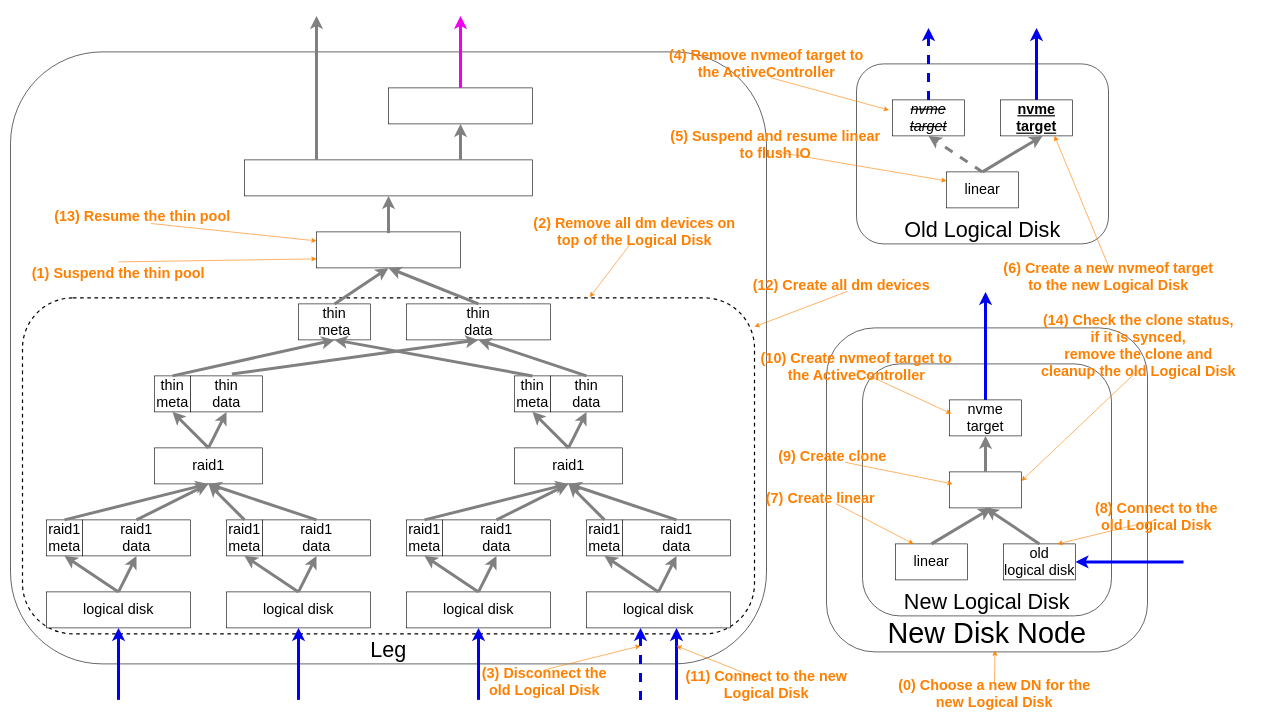
Image size: 1275x722. Some labels were removed from this diagram. The shapes that lost their labels are listed below. From the top down, each one's centre as x and y in pixels, then its label:
pixel 460 105: nvmeof target
pixel 388 177: thin dev
pixel 388 249: thin pool
pixel 985 489: clone
